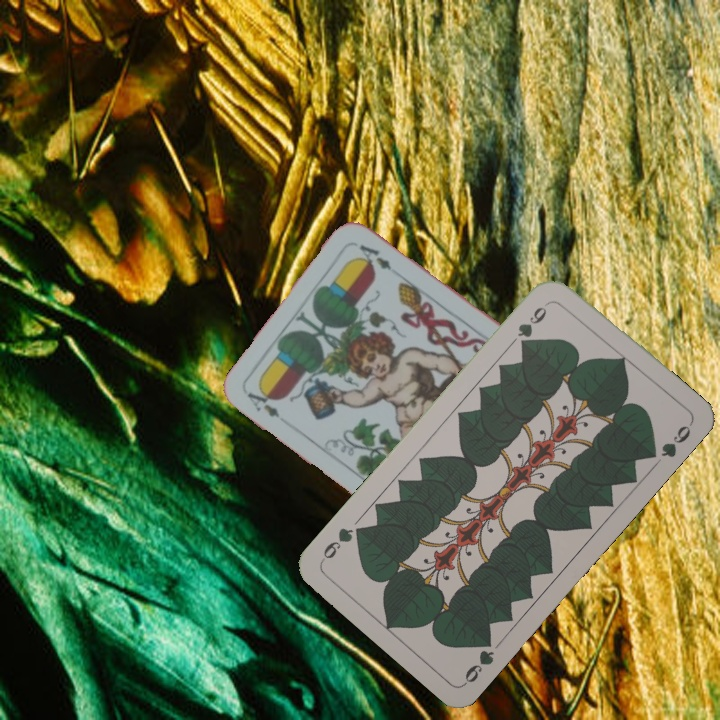EA: (243, 386, 283, 421)
G9: (513, 297, 553, 350), (460, 632, 497, 687)
